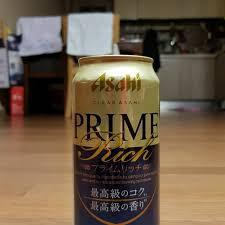beer: (67, 54, 164, 225)
